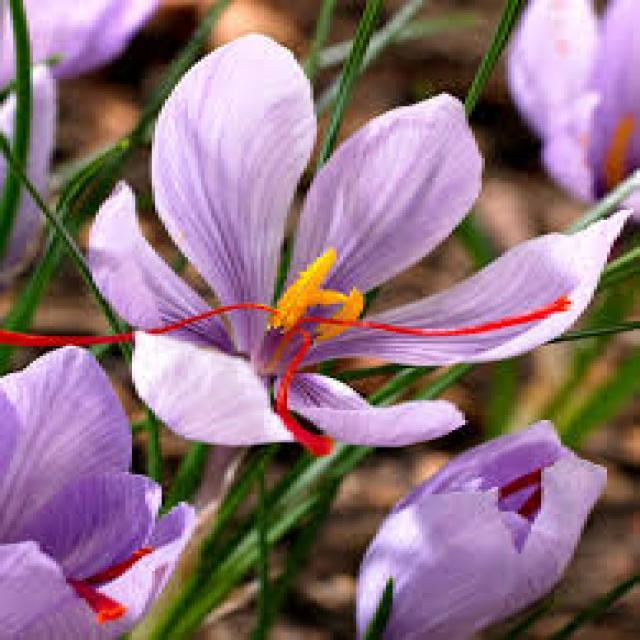Flower: (76, 55, 607, 416), (0, 341, 238, 635)
stigma: (0, 286, 262, 348), (318, 297, 572, 339), (276, 326, 335, 453), (81, 539, 150, 589), (77, 582, 135, 631)
